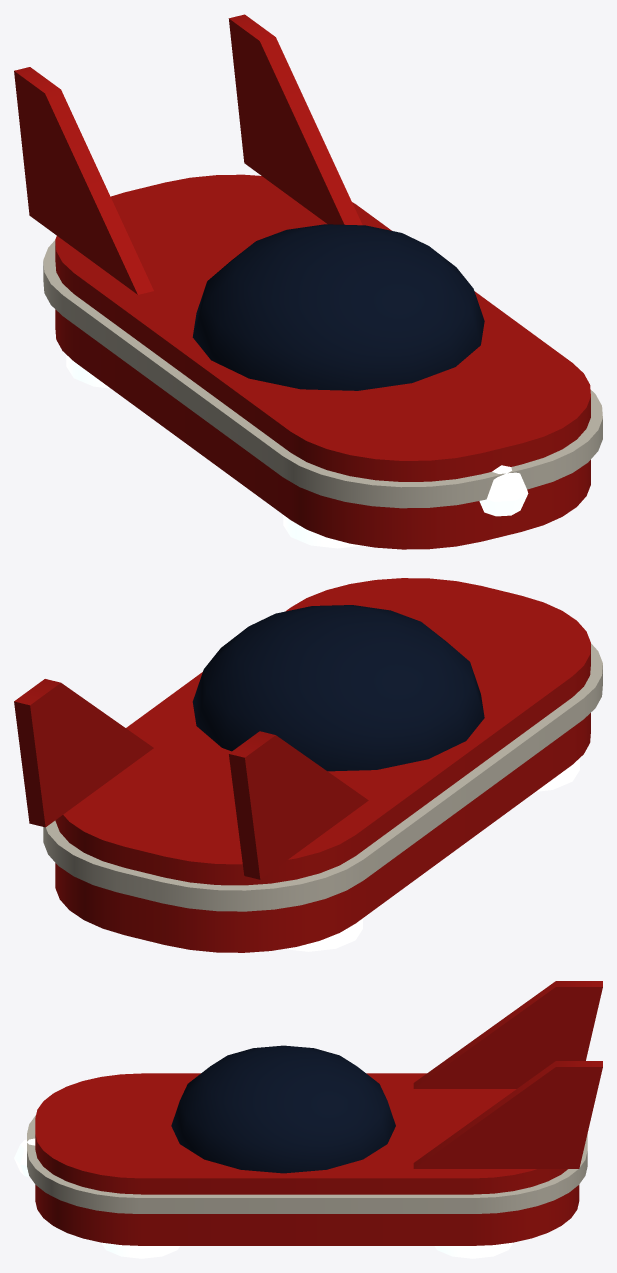
File: hover_car_red.glb
The picture shows the model from 3 angles, top to bottom: view 1: azimuth 30°, elevation 25°; view 2: azimuth 150°, elevation 25°; view 3: azimuth 270°, elevation 25°; orthographic projection. The views are drawn at different scales.
Parts seen in each view (by area): view 1: hover_car_red; view 2: hover_car_red; view 3: hover_car_red.
Boxes of the visible parts, bbox=[...] form: hover_car_red: bbox=[14, 14, 602, 549]; hover_car_red: bbox=[14, 578, 602, 952]; hover_car_red: bbox=[14, 981, 602, 1258].
Bounding box in the file's own units: 2.24 × 1.7 × 4.98.
